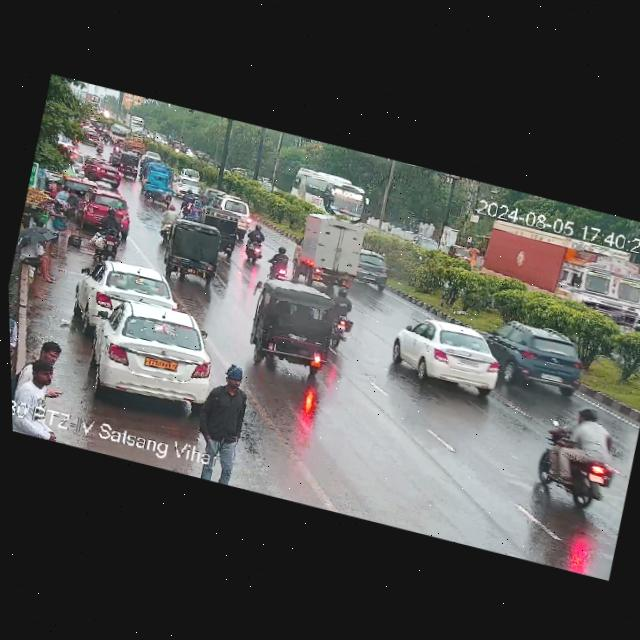bus: (286, 165, 373, 224)
car: (77, 289, 228, 412), (380, 305, 512, 398), (71, 252, 179, 334), (490, 314, 602, 392), (241, 297, 343, 381), (158, 213, 237, 285), (73, 186, 134, 232), (195, 206, 245, 256), (349, 247, 393, 290), (207, 193, 253, 231), (138, 169, 179, 206), (116, 148, 145, 179), (446, 242, 473, 264), (174, 175, 203, 194), (177, 164, 202, 181), (144, 150, 163, 166)
motorcycle: (526, 399, 630, 510), (323, 282, 364, 348), (88, 201, 131, 250), (237, 220, 272, 268), (177, 189, 208, 221), (265, 244, 293, 279), (157, 202, 181, 237), (93, 137, 107, 157)
person: (181, 360, 260, 486), (10, 327, 81, 443), (9, 233, 65, 287), (35, 197, 68, 257), (85, 160, 124, 188)
truck: (464, 214, 640, 333), (281, 204, 378, 297), (105, 122, 131, 147), (122, 130, 148, 154), (124, 114, 146, 131)
